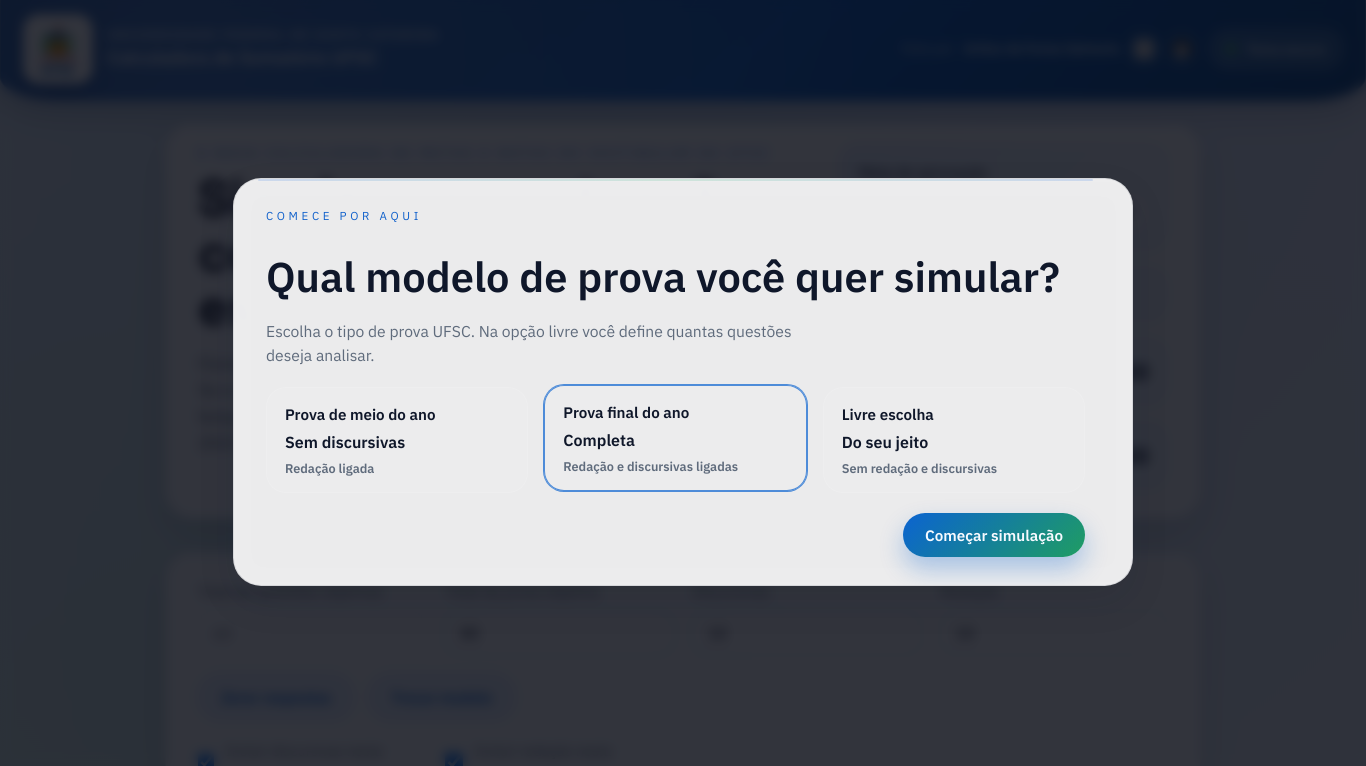
App › zera respostas no modo livre
Step 1. Click the button "Livre escolha Do seu jeito Sem redação e discursivas" → (888, 414), box [823,387,1085,493]
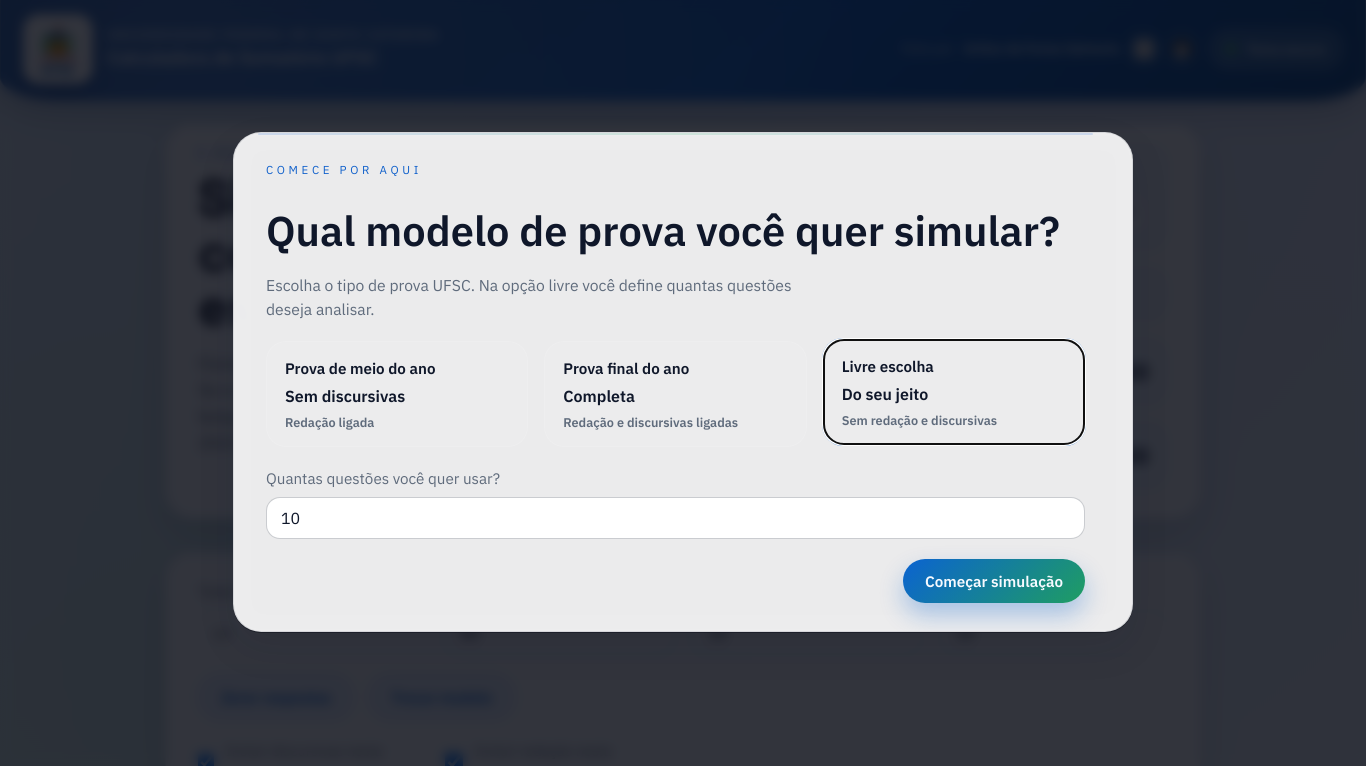
Step 2. Replace the text in the number field labelled "Quantas questões você quer usar?" with "1" → (676, 518), box [266,497,1085,539]
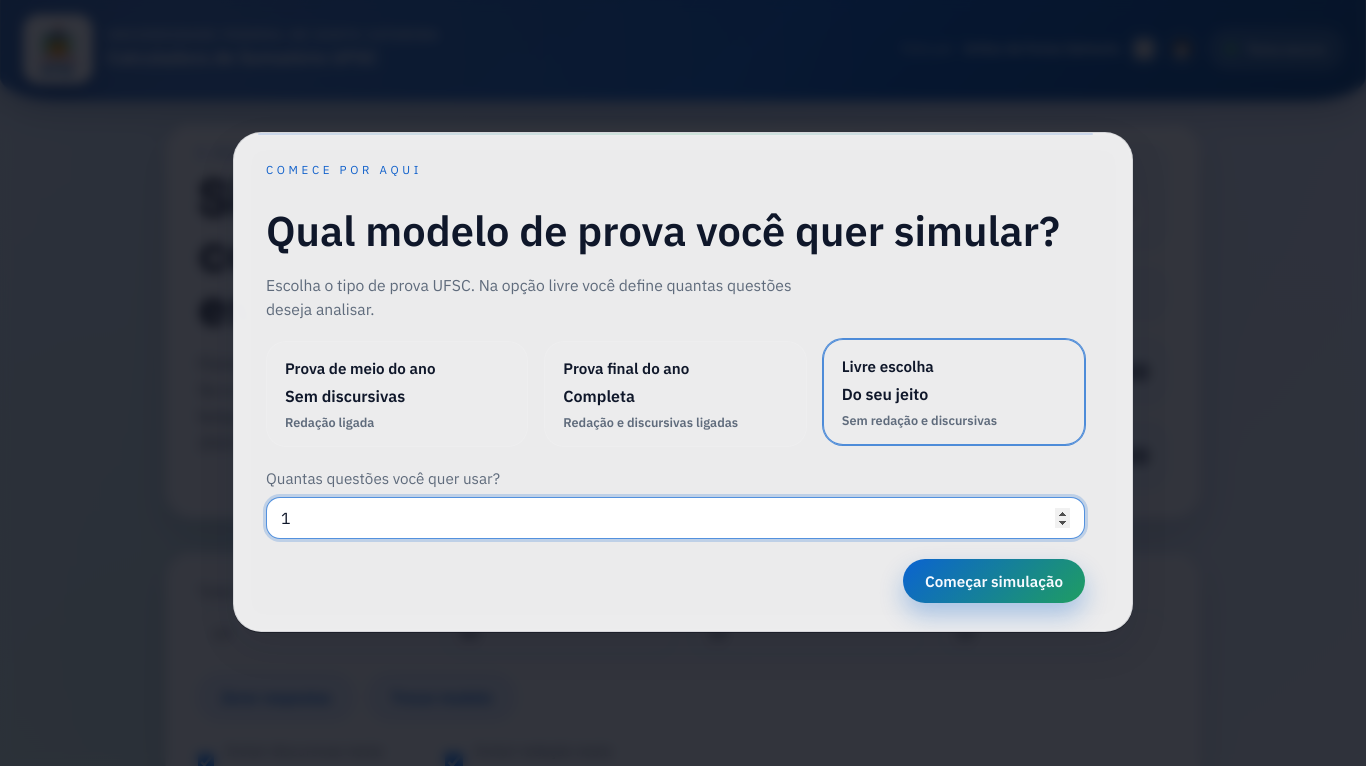
Step 3. Click the button "Começar simulação" → (994, 581), box [903,559,1085,603]
(page scrolled)
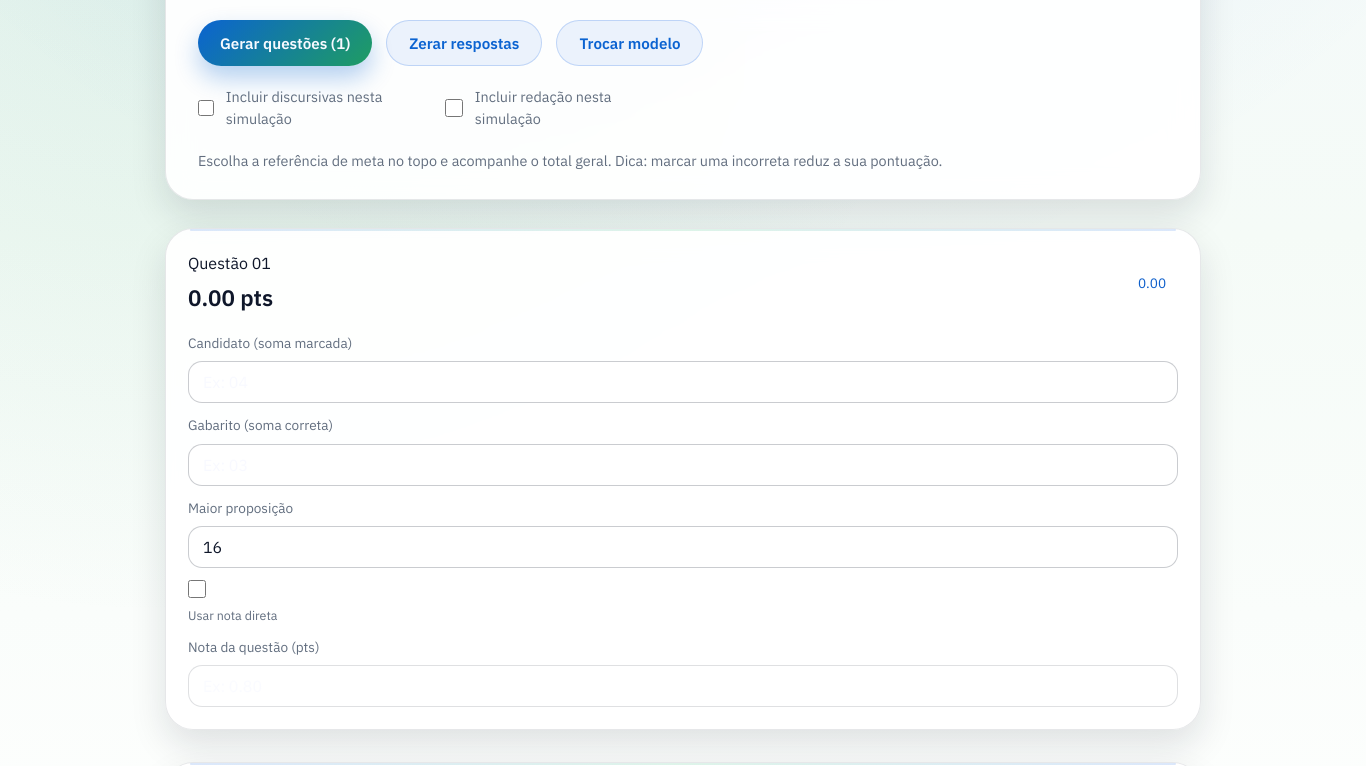
Step 4. Type "5" into the number field labelled "Candidato (soma marcada)" → (683, 382), box [188,361,1178,403]
Step 5. Click the checkbox labelled "Usar nota direta" → (197, 589), box [188,580,206,598]
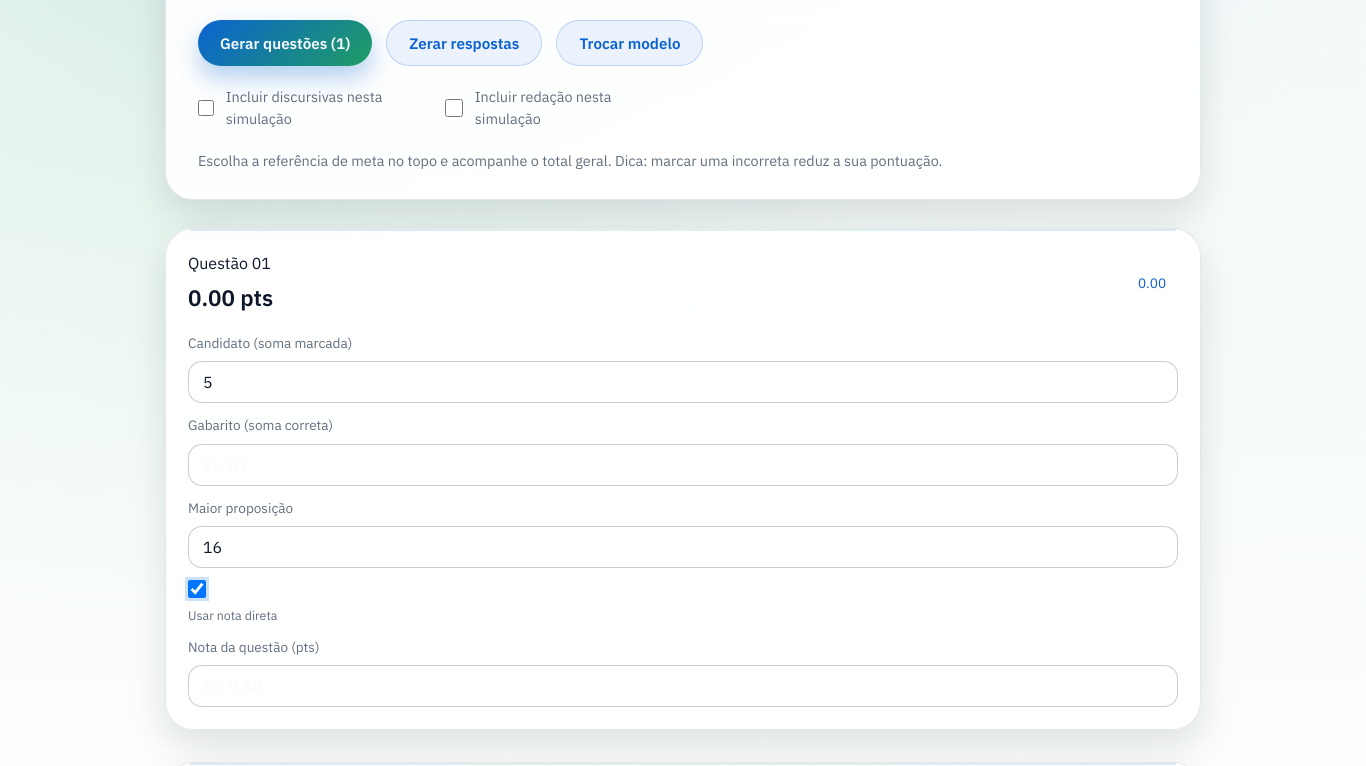
Step 6. Type "2" into the number field labelled "Nota da questão (pts)" → (683, 686), box [188,665,1178,707]
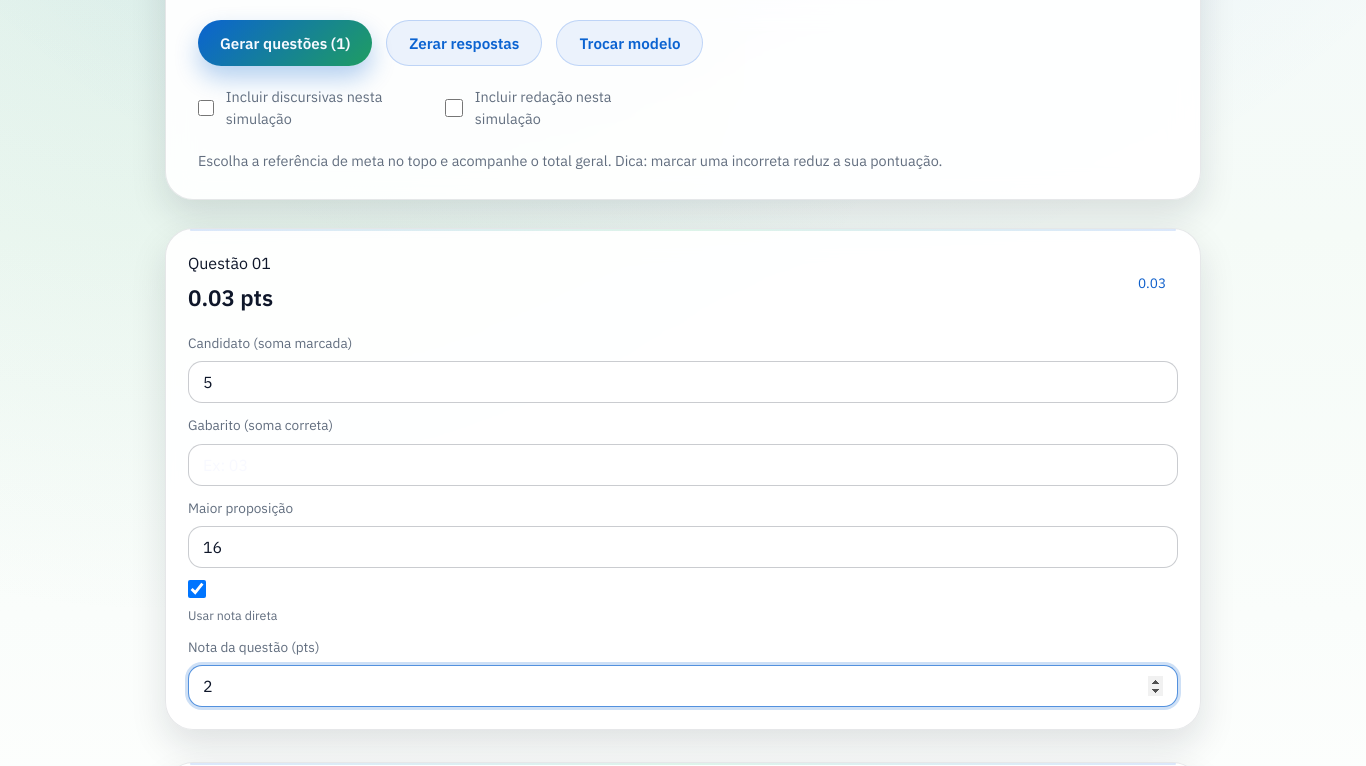
Step 7. Click the button "Zerar respostas" → (464, 43), box [386,20,542,66]
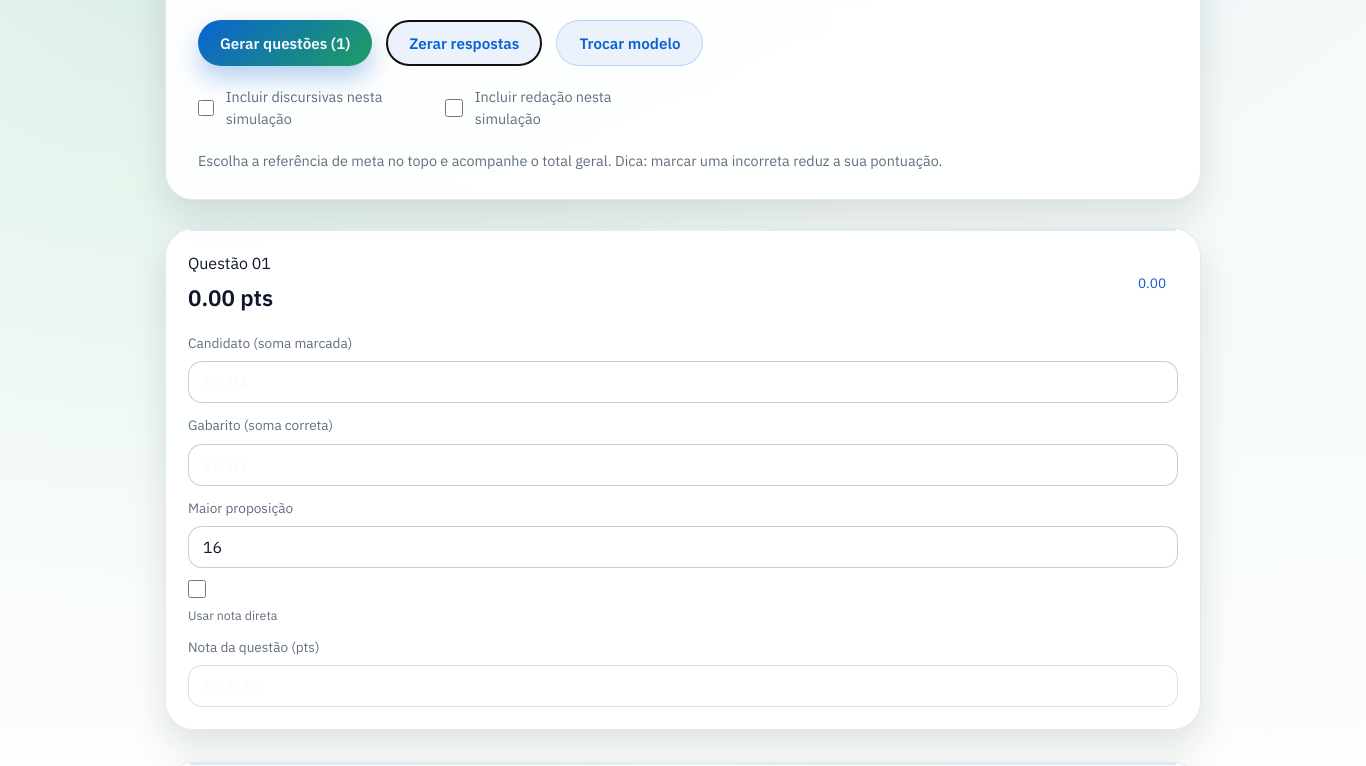
Expected: the checkbox labelled "Usar nota direta" is not checked, [188,580,206,598]
Expected: the number field labelled "Candidato (soma marcada)" is not empty, [188,361,1178,403]
Expected: the number field labelled "Nota da questão (pts)" is disabled, [188,665,1178,707]
